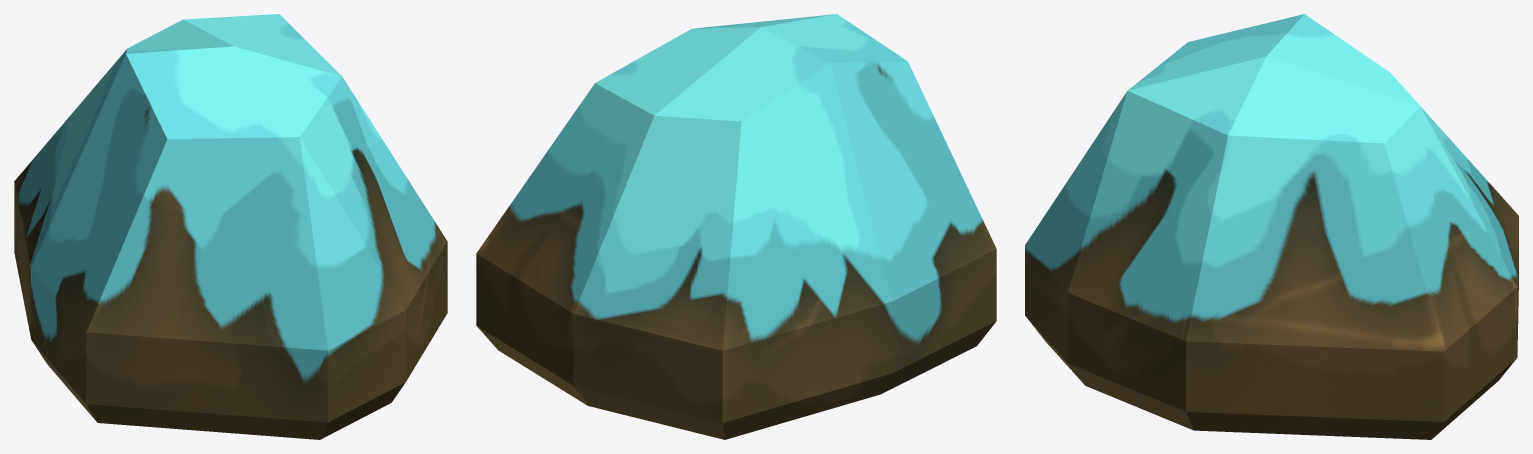
The model's file is SmallRock2.FBX.
The picture shows the model from 3 angles, left to right: view 1: azimuth 30°, elevation 25°; view 2: azimuth 150°, elevation 25°; view 3: azimuth 270°, elevation 25°; orthographic projection. The views are drawn at different scales.
Parts seen in each view (by area): view 1: Rock2; view 2: Rock2; view 3: Rock2.
Part boxes in pixels (x1,y1,x2,y2): Rock2: (14,14,447,439); Rock2: (476,14,996,439); Rock2: (1025,14,1518,439).
Size of the model in its own units: 18.18 by 13.73 by 20.6.
1 material, 1 textured.
